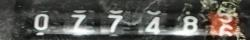digits: (212, 14, 242, 36), (100, 12, 130, 33), (32, 13, 50, 30), (70, 13, 87, 30), (144, 16, 160, 34), (182, 15, 198, 32)
